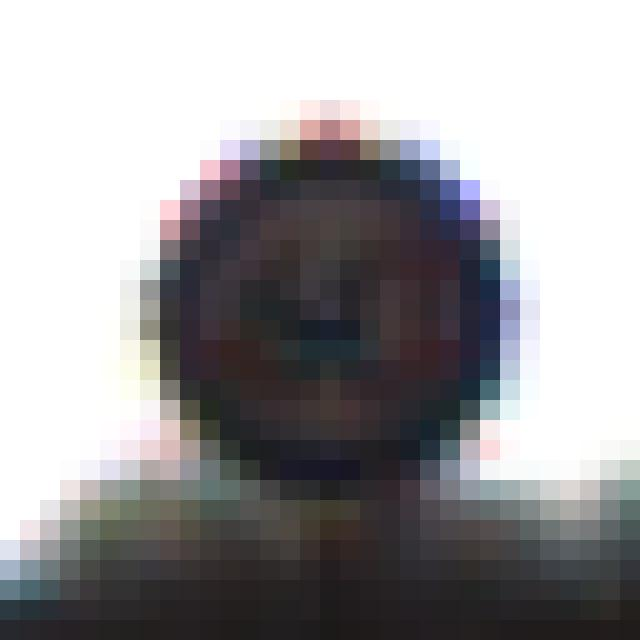SPEED-LIMIT-60: (129, 96, 540, 514)
